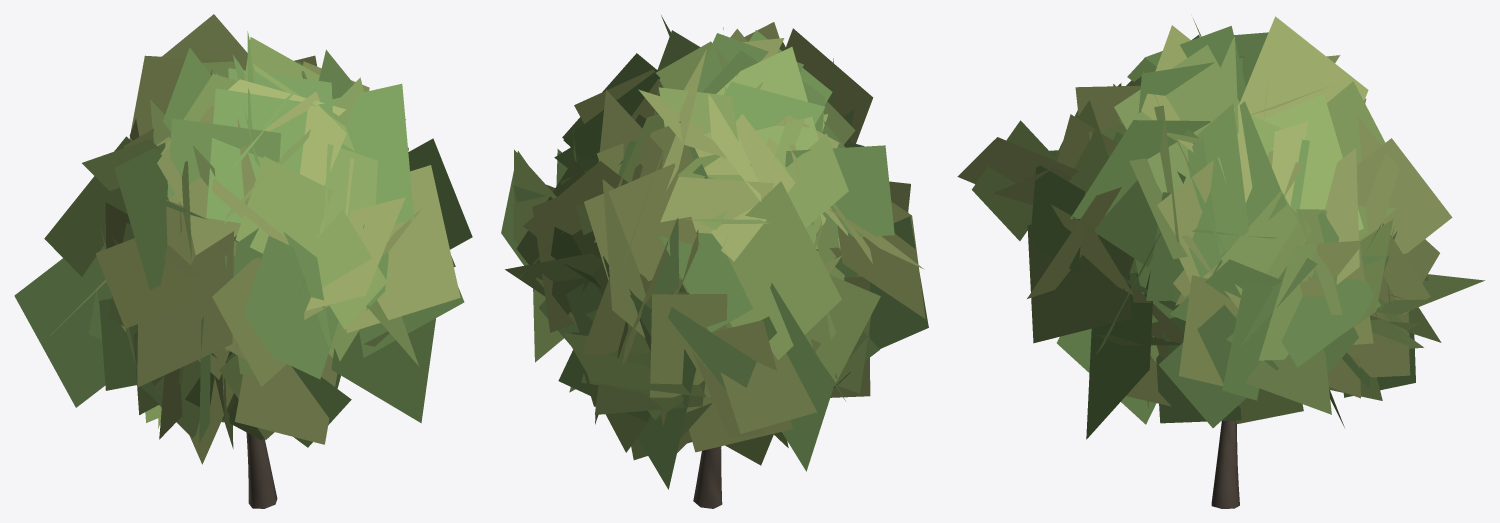
Rendered from maple_lod1.glb.
3 views of the same model, side by side, from view 1: azimuth 30°, elevation 25°; view 2: azimuth 150°, elevation 25°; view 3: azimuth 270°, elevation 25° (orthographic).
Visible parts, largest first — view 1: maple_lod1; view 2: maple_lod1; view 3: maple_lod1.
Part boxes in pixels (left/top/right/bottom): maple_lod1: left=14, top=14, right=472, bottom=508; maple_lod1: left=501, top=15, right=928, bottom=508; maple_lod1: left=957, top=16, right=1484, bottom=508.
Size of the model in its own units: 0.8662 by 1 by 1.
